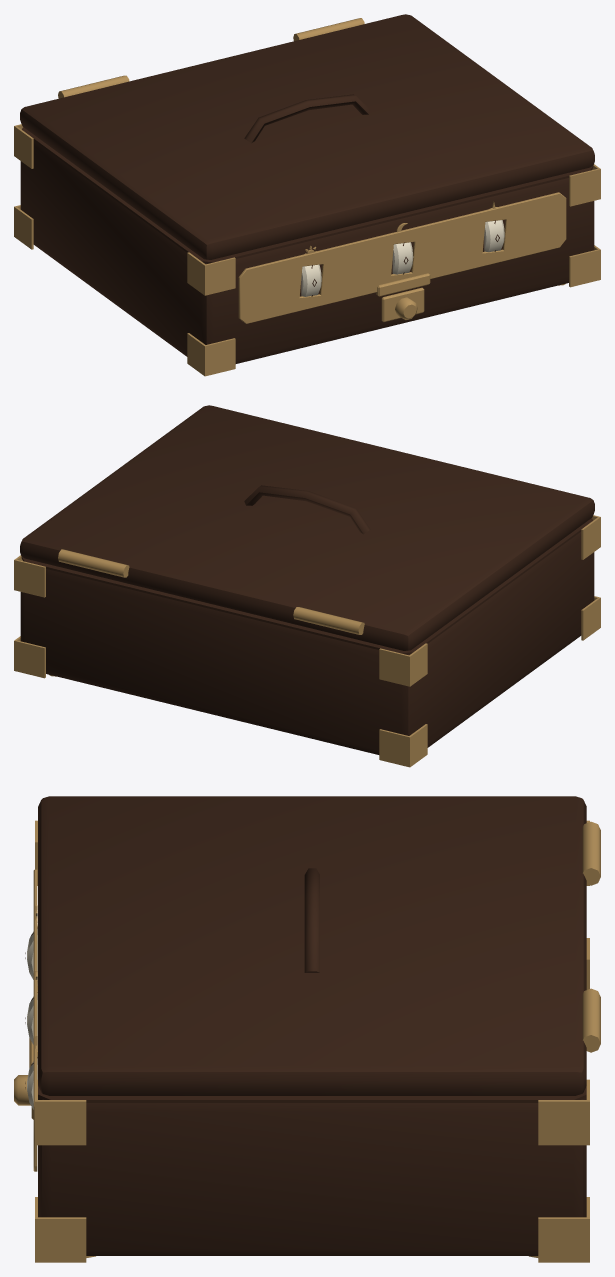
The model's file is meter_case.glb.
The picture shows the model from 3 angles, top to bottom: view 1: azimuth 30°, elevation 25°; view 2: azimuth 150°, elevation 25°; view 3: azimuth 270°, elevation 25°; orthographic projection. The views are drawn at different scales.
Visible parts, largest first — view 1: case_lid, meter_case, IA_case_latch, IA_case_dial_1, IA_case_dial_0, IA_case_dial_2; view 2: case_lid, meter_case; view 3: case_lid, meter_case.
Boxes of the visible parts, <box> form: case_lid: <box>20,14,594,259</box>; meter_case: <box>14,18,600,376</box>; IA_case_latch: <box>381,287,424,321</box>; IA_case_dial_1: <box>392,242,413,274</box>; IA_case_dial_0: <box>301,264,321,296</box>; IA_case_dial_2: <box>484,220,504,252</box>; case_lid: <box>20,405,594,650</box>; meter_case: <box>14,515,600,767</box>; case_lid: <box>38,796,586,1095</box>; meter_case: <box>29,820,600,1262</box>.
Size of the model in its own units: 0.303 by 0.119 by 0.2675.
